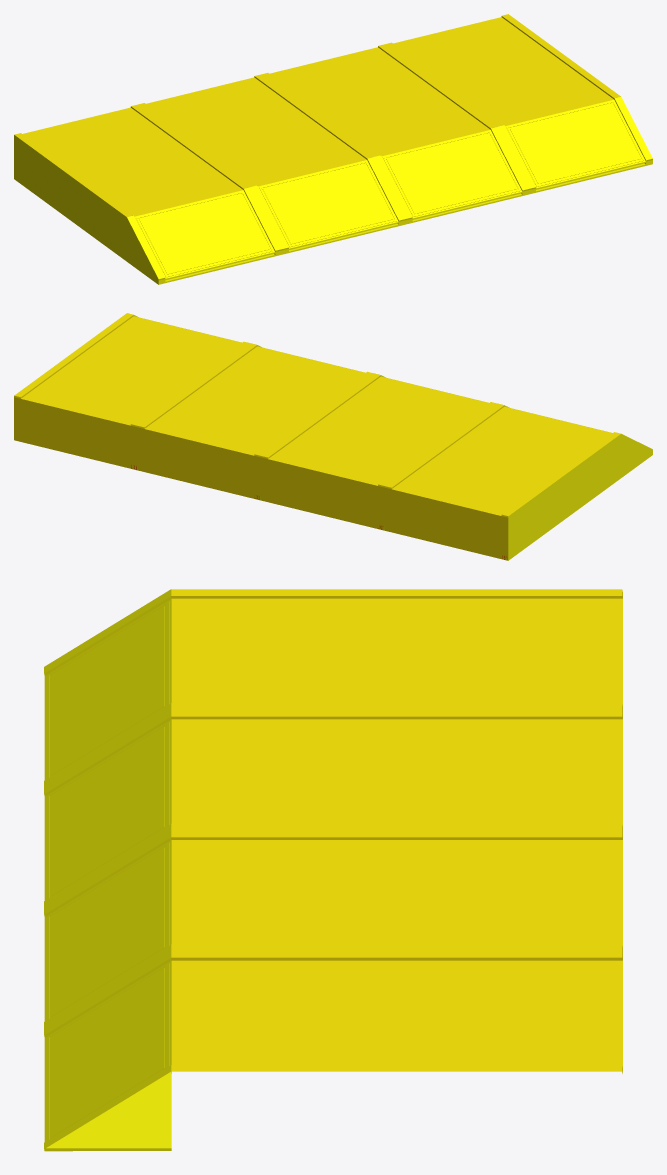
The picture shows the model from 3 angles, top to bottom: view 1: azimuth 30°, elevation 25°; view 2: azimuth 150°, elevation 25°; view 3: azimuth 270°, elevation 25°; orthographic projection. The views are drawn at different scales.
Visible parts, largest first — view 1: Cube.569; view 2: Cube.569; view 3: Cube.569.
Boxes of the visible parts, x1,y1,x2,y2 form: Cube.569: (14,14,652,284); Cube.569: (14,313,652,560); Cube.569: (44,589,622,1151).
Bounding box in the file's own units: 3600 × 310 × 1825.
